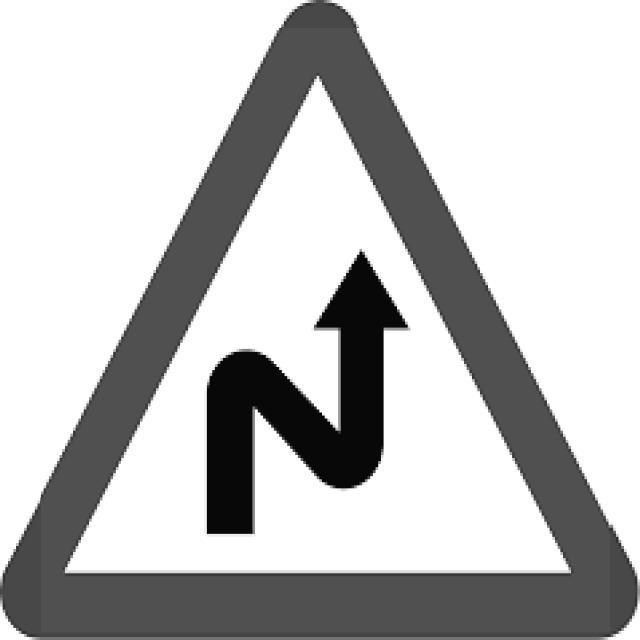right reverse bend: (34, 22, 612, 622)
